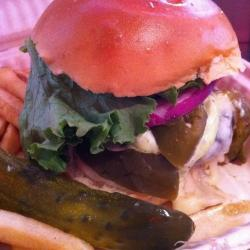burger: (29, 1, 247, 219)
